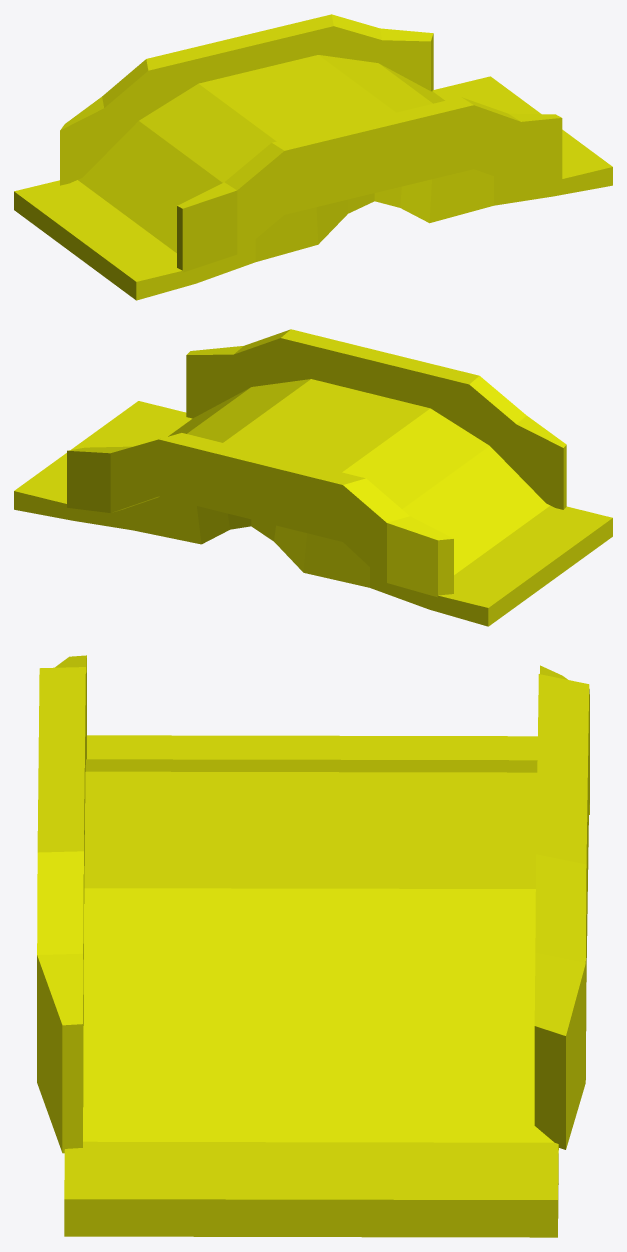
The model's file is road_yellow.fbx.
3 renders of one model, top to bottom at view 1: azimuth 30°, elevation 25°; view 2: azimuth 150°, elevation 25°; view 3: azimuth 270°, elevation 25°, orthographic. The views are drawn at different scales.
Parts seen in each view (by area): view 1: Bridge; view 2: Bridge; view 3: Bridge.
Part boxes in pixels (x1=…): Bridge: x1=14, y1=14, x2=612, y2=300; Bridge: x1=14, y1=329, x2=612, y2=626; Bridge: x1=37, y1=655, x2=589, y2=1237.
Size of the model in its own units: 126 by 30.58 by 63.36.
